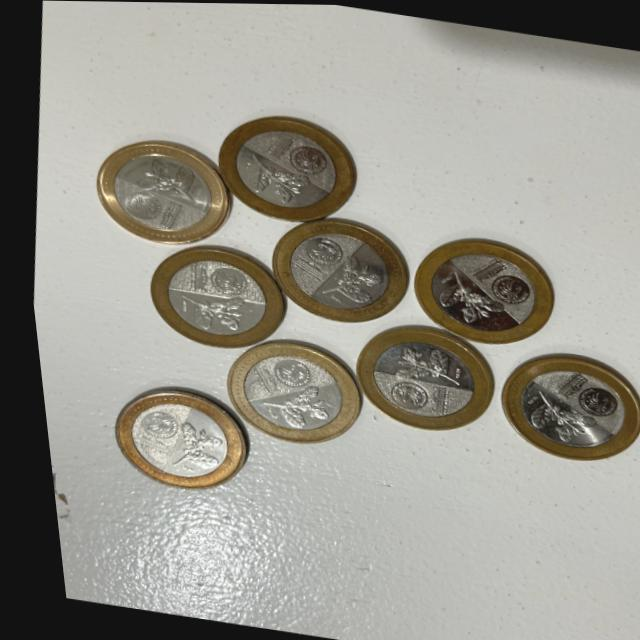20_New_Back: (304, 248, 377, 306), (252, 376, 327, 430), (429, 274, 504, 327), (516, 397, 591, 444), (386, 344, 462, 388), (174, 289, 246, 335), (128, 156, 199, 202), (156, 422, 219, 472), (241, 158, 308, 203)
